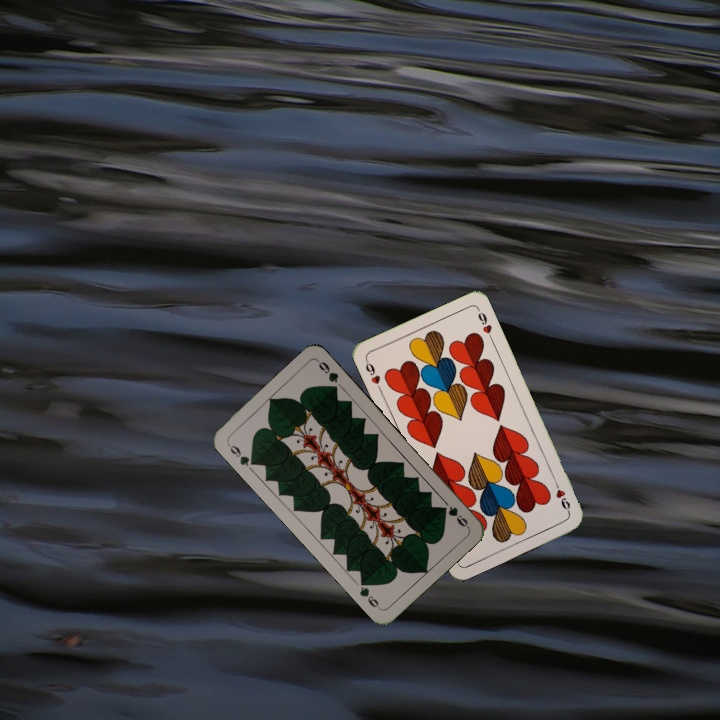G9: (223, 439, 259, 469), (444, 502, 471, 530)
H9: (361, 355, 384, 394), (550, 477, 573, 516)
